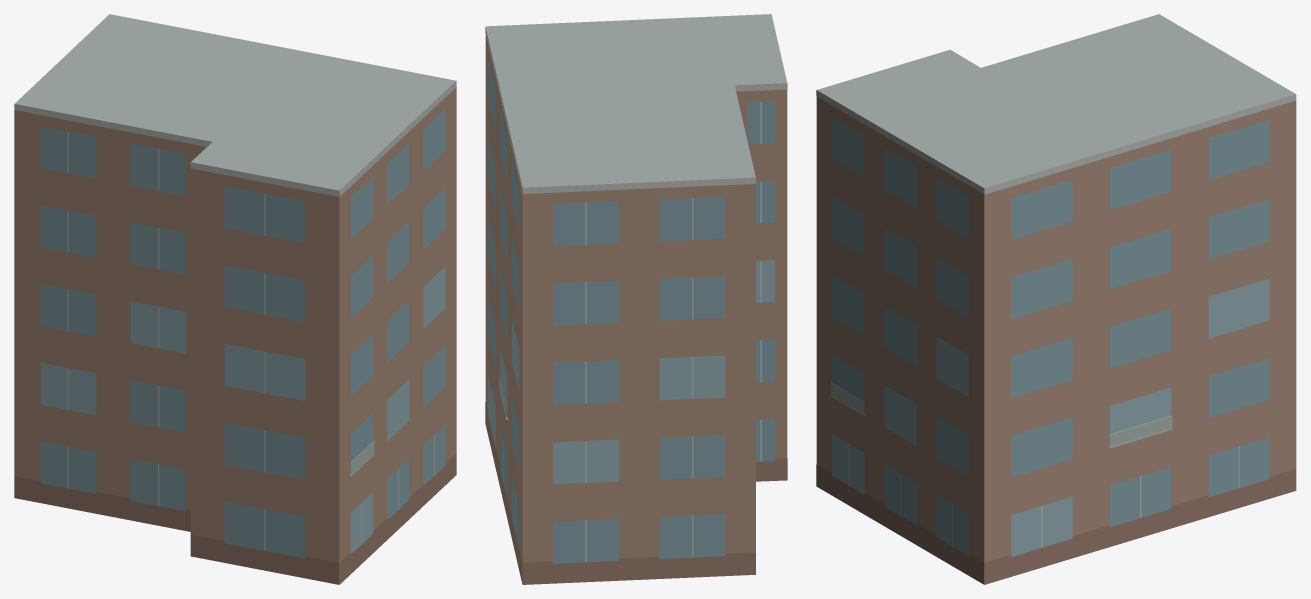
Rendered from survey-upis-32712770.glb.
3 views of the same model, side by side, from view 1: azimuth 30°, elevation 25°; view 2: azimuth 150°, elevation 25°; view 3: azimuth 270°, elevation 25° (orthographic).
Visible parts, largest first — view 1: survey-upis-32712770.tmp; view 2: survey-upis-32712770.tmp; view 3: survey-upis-32712770.tmp.
Part boxes in pixels (box(x1,y1,x2,y2)): survey-upis-32712770.tmp: box(14, 14, 456, 584); survey-upis-32712770.tmp: box(485, 14, 787, 584); survey-upis-32712770.tmp: box(816, 14, 1296, 584).
Size of the model in its own units: 14.49 by 15.35 by 16.84.
